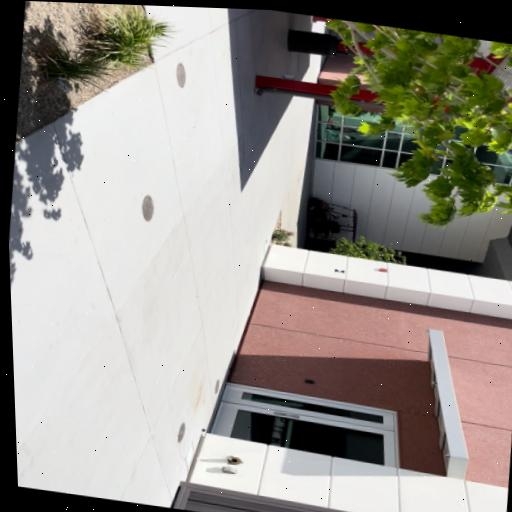target6: (334, 269, 345, 274)
